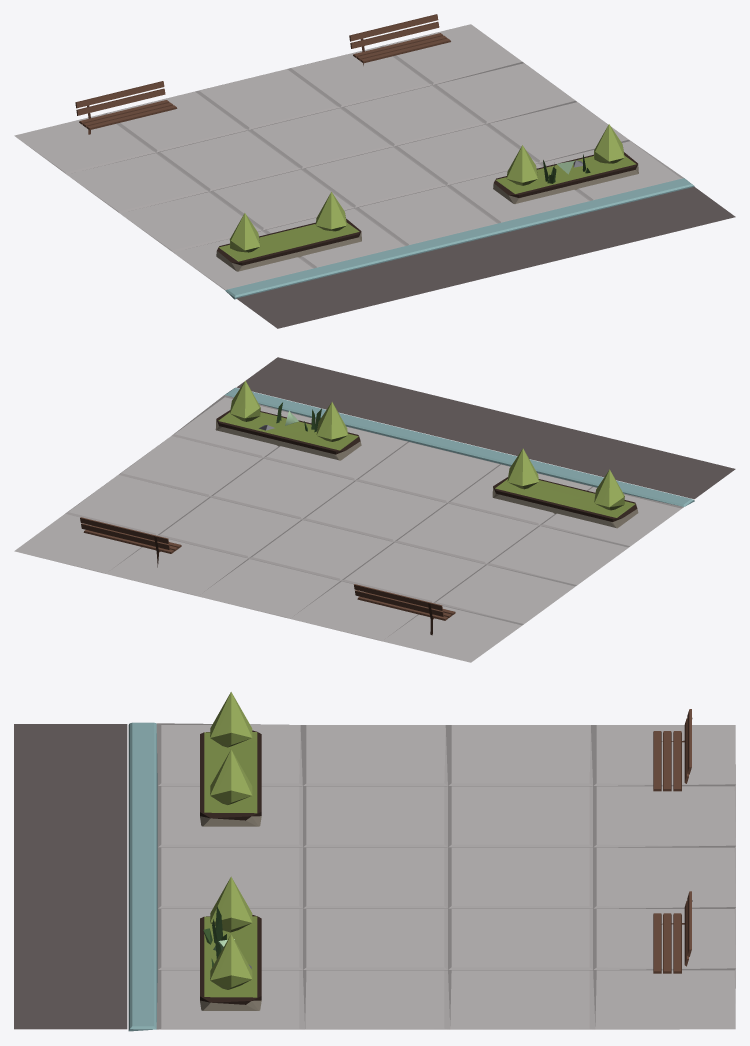
The model's file is QmTSV1NCuU9Nvod6GYURZNRsd2WCFMkD23dfgr4L7Vxkv9_lod2.fbx.
3 renders of one model, top to bottom at view 1: azimuth 30°, elevation 25°; view 2: azimuth 150°, elevation 25°; view 3: azimuth 270°, elevation 25°, orthographic. The views are drawn at different scales.
Visible parts, largest first — view 1: Entity_512; view 2: Entity_512; view 3: Entity_512.
Boxes of the visible parts, left/top/right/bottom form: Entity_512: left=14, top=14, right=735, bottom=328; Entity_512: left=14, top=357, right=735, bottom=662; Entity_512: left=14, top=692, right=735, bottom=1031.
Size of the model in its own units: 16000 by 1591 by 15918.
1 material, 1 textured.
